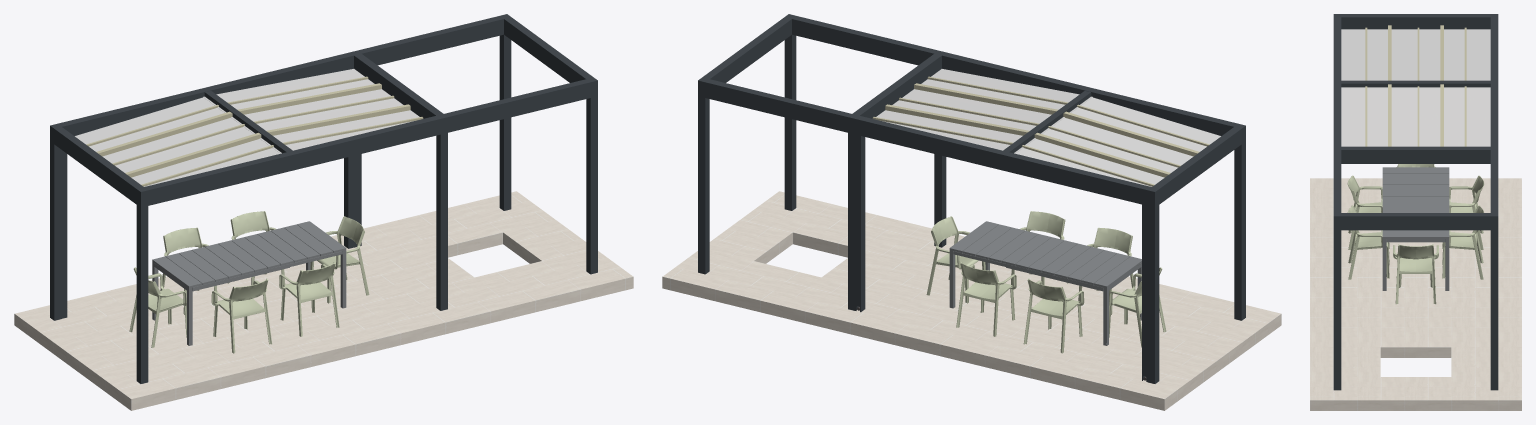
Rendered from hyg38_matdarkgray.fbx.
3 renders of one model, left to right at view 1: azimuth 30°, elevation 25°; view 2: azimuth 150°, elevation 25°; view 3: azimuth 270°, elevation 25°, orthographic. The views are drawn at different scales.
Visible parts, largest first — view 1: hyg38_matdarkgray; view 2: hyg38_matdarkgray; view 3: hyg38_matdarkgray.
Part boxes in pixels (x1,y1,x2,y2): hyg38_matdarkgray: [14, 14, 633, 410]; hyg38_matdarkgray: [662, 14, 1281, 410]; hyg38_matdarkgray: [1310, 14, 1521, 410].
Size of the model in its own units: 670 by 260 by 270.
9 materials, 6 textured.
